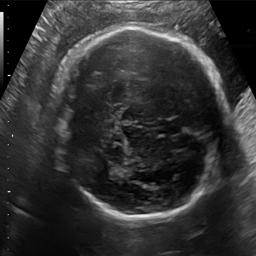normal: (50, 23, 230, 224)
